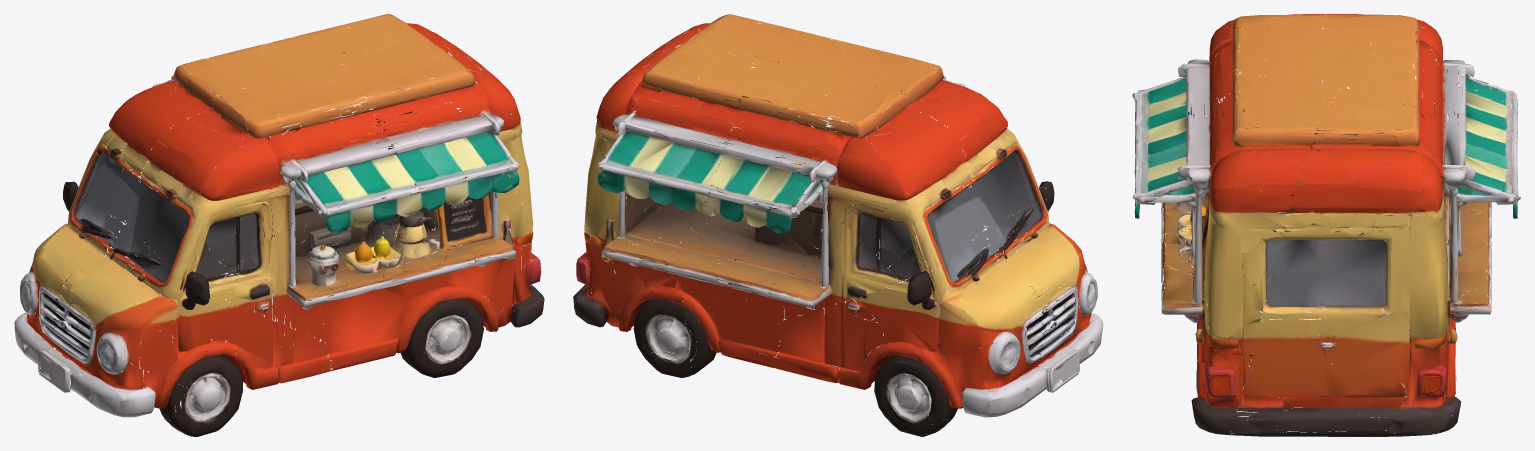
The model's file is coffee_truck.glb.
3 renders of one model, left to right at view 1: azimuth 30°, elevation 25°; view 2: azimuth 150°, elevation 25°; view 3: azimuth 270°, elevation 25°, orthographic. The views are drawn at different scales.
Visible parts, largest first — view 1: coffee_truck; view 2: coffee_truck; view 3: coffee_truck.
Boxes of the visible parts, x1=… form: coffee_truck: x1=14, y1=14, x2=544, y2=436; coffee_truck: x1=573, y1=14, x2=1103, y2=436; coffee_truck: x1=1132, y1=14, x2=1520, y2=436.
Bounding box in the file's own units: 5 × 3.08 × 3.43.
1 material, 1 textured.
